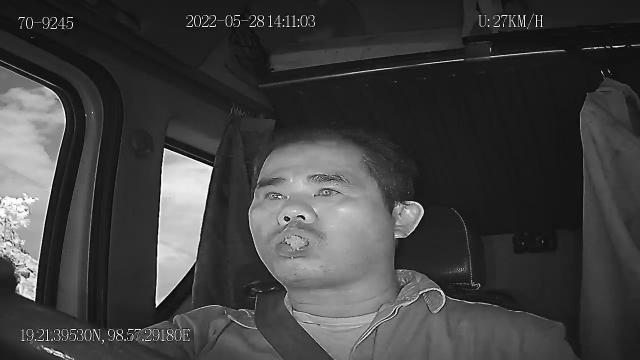SafeDriving: (305, 176, 350, 206), (256, 180, 292, 206)
Seatbelt: (252, 286, 340, 360)
